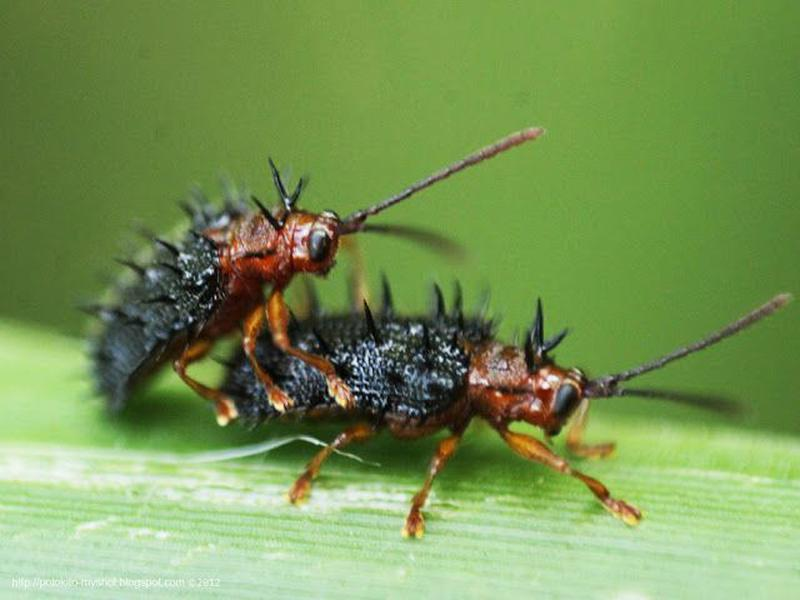Spiny_beetle: (63, 180, 624, 513)
